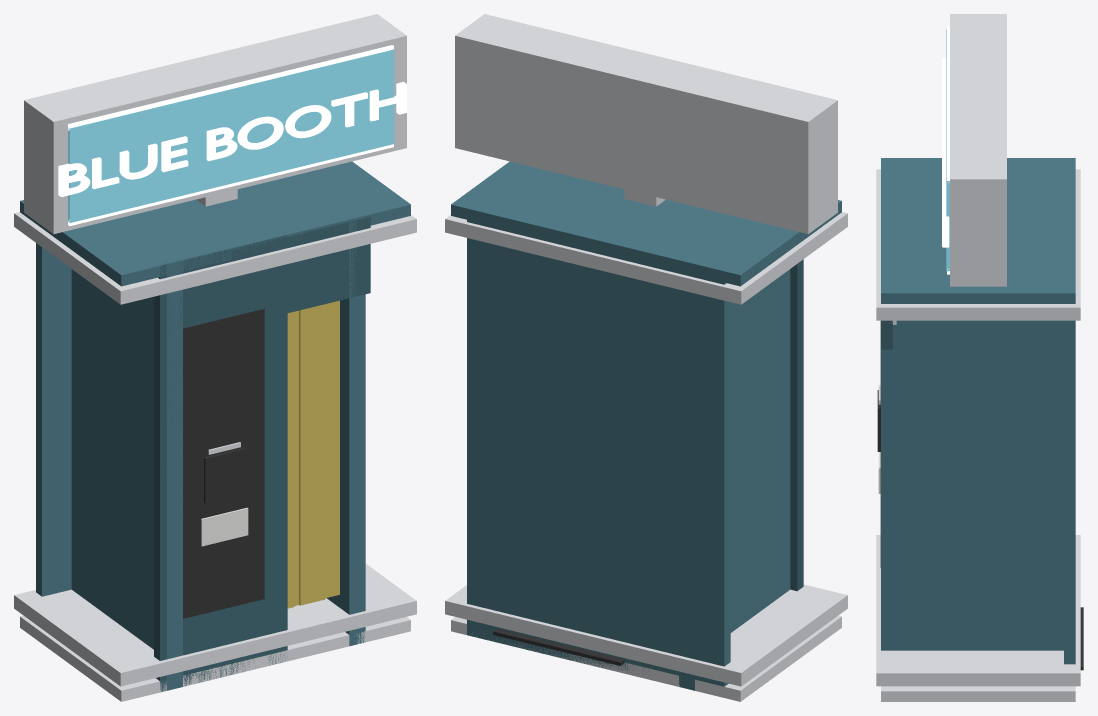
3 renders of one model, left to right at view 1: azimuth 30°, elevation 25°; view 2: azimuth 150°, elevation 25°; view 3: azimuth 270°, elevation 25°, orthographic. The views are drawn at different scales.
Visible parts, largest first — view 1: wall_L, sign_panel, front_L, m_frame, sign_body, roof, trim_B, wall_B, wall_R, front_T, curtain_3, trim_T (+9 smaller); view 2: wall_B, sign_body, wall_L, roof, trim_B, trim_T, wall_R, front_L, base, floor_base; view 3: wall_R, roof, sign_body, trim_B, trim_T, wall_B, base, Testo, sg_top, sign_panel, front_T.
Boxes of the visible parts, bbox=[...] form: wall_L: bbox=[71, 224, 182, 690]; sign_panel: bbox=[68, 49, 394, 222]; front_L: bbox=[154, 235, 287, 691]; m_frame: bbox=[183, 308, 264, 618]; sign_body: bbox=[24, 14, 406, 234]; roof: bbox=[20, 161, 410, 286]; trim_B: bbox=[14, 564, 416, 686]; wall_B: bbox=[36, 243, 71, 596]; wall_R: bbox=[291, 172, 365, 646]; front_T: bbox=[231, 217, 370, 318]; curtain_3: bbox=[299, 304, 325, 605]; trim_T: bbox=[14, 212, 416, 304]; wall_B: bbox=[467, 206, 730, 686]; sign_body: bbox=[455, 14, 837, 234]; wall_L: bbox=[679, 217, 790, 690]; roof: bbox=[451, 161, 841, 286]; trim_B: bbox=[445, 584, 847, 686]; trim_T: bbox=[445, 212, 847, 304]; wall_R: bbox=[496, 172, 570, 645]; front_L: bbox=[790, 259, 803, 591]; base: bbox=[451, 615, 841, 701]; floor_base: bbox=[493, 628, 624, 665]; wall_R: bbox=[881, 320, 1063, 650]; roof: bbox=[881, 158, 1075, 303]; sign_body: bbox=[950, 14, 1006, 286]; trim_B: bbox=[876, 535, 1080, 686]; trim_T: bbox=[876, 169, 1080, 320]; wall_B: bbox=[1064, 165, 1075, 664]; base: bbox=[881, 686, 1075, 701]; Testo: bbox=[942, 58, 949, 247]; sg_top: bbox=[947, 26, 949, 182]; sign_panel: bbox=[946, 29, 949, 271]; front_T: bbox=[881, 320, 892, 349].
Size of the model in its own units: 1.65 by 2.5 by 0.873.
